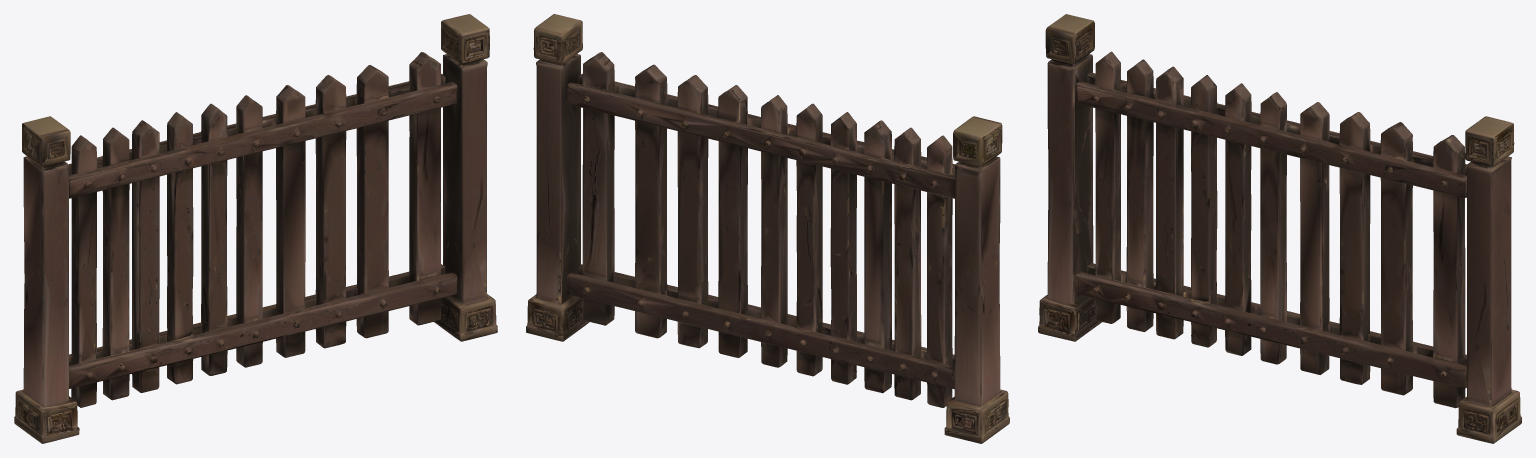
The model's file is woodFence-compressed.glb.
3 views of the same model, side by side, from view 1: azimuth 30°, elevation 25°; view 2: azimuth 150°, elevation 25°; view 3: azimuth 330°, elevation 25° (orthographic).
Parts seen in each view (by area): view 1: node_0; view 2: node_0; view 3: node_0.
Boxes of the visible parts, bbox=[...] form: node_0: bbox=[14, 14, 497, 443]; node_0: bbox=[526, 14, 1009, 443]; node_0: bbox=[1038, 14, 1521, 443].
Bounding box in the file's own units: 1.57 × 0.9998 × 0.1716.
Materials: 1 (1 with a texture image).
